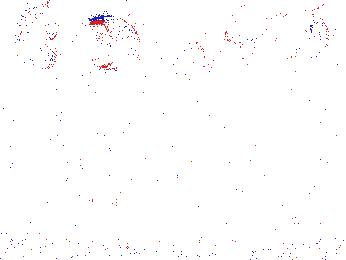moon jellyfish: (57, 32, 134, 110), (136, 41, 206, 107), (263, 11, 330, 75), (81, 15, 143, 77), (224, 4, 312, 46), (16, 2, 58, 69)
